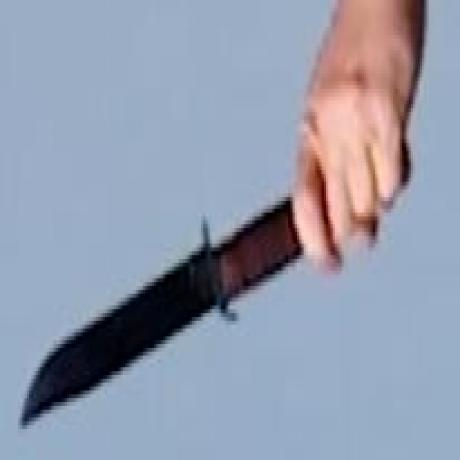1: (291, 0, 430, 277)
weapon: (20, 202, 291, 434)
